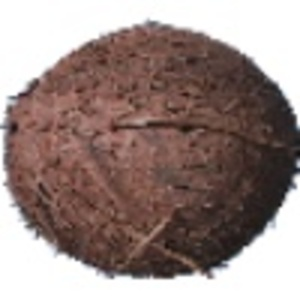coco: (1, 21, 300, 280)
